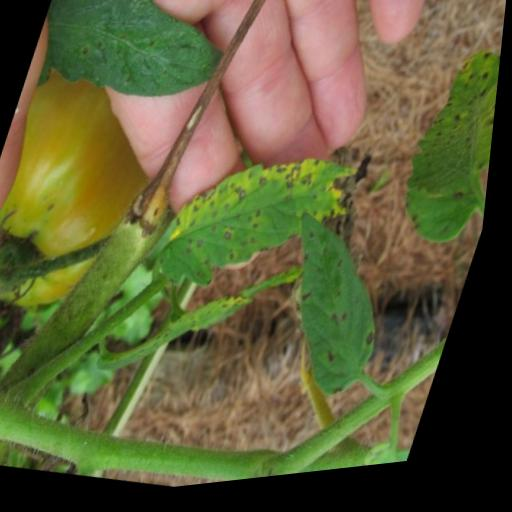Septoria: (146, 123, 373, 326), (248, 202, 425, 414), (21, 0, 241, 129), (390, 48, 504, 268)
